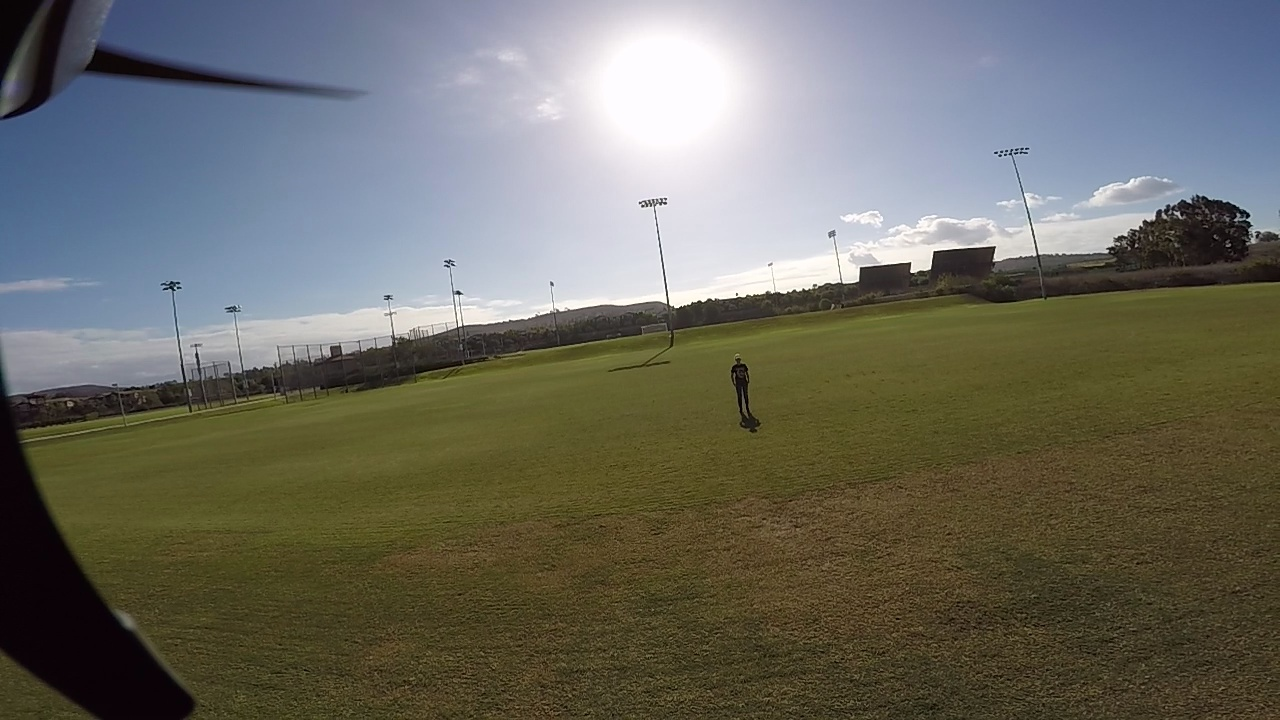person: (727, 348, 754, 426)
